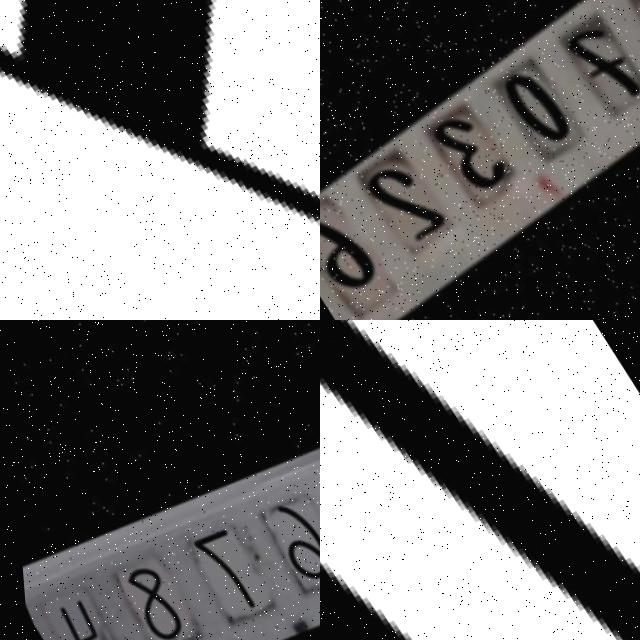0: (480, 47, 586, 160)
2: (346, 140, 454, 254)
3: (413, 90, 521, 206)
4: (23, 571, 132, 640)
6: (237, 469, 320, 598), (320, 185, 388, 308)
7: (164, 502, 286, 630), (547, 2, 640, 119)
8: (96, 538, 211, 640)
N: (320, 320, 640, 640)
Y: (0, 0, 320, 320)
